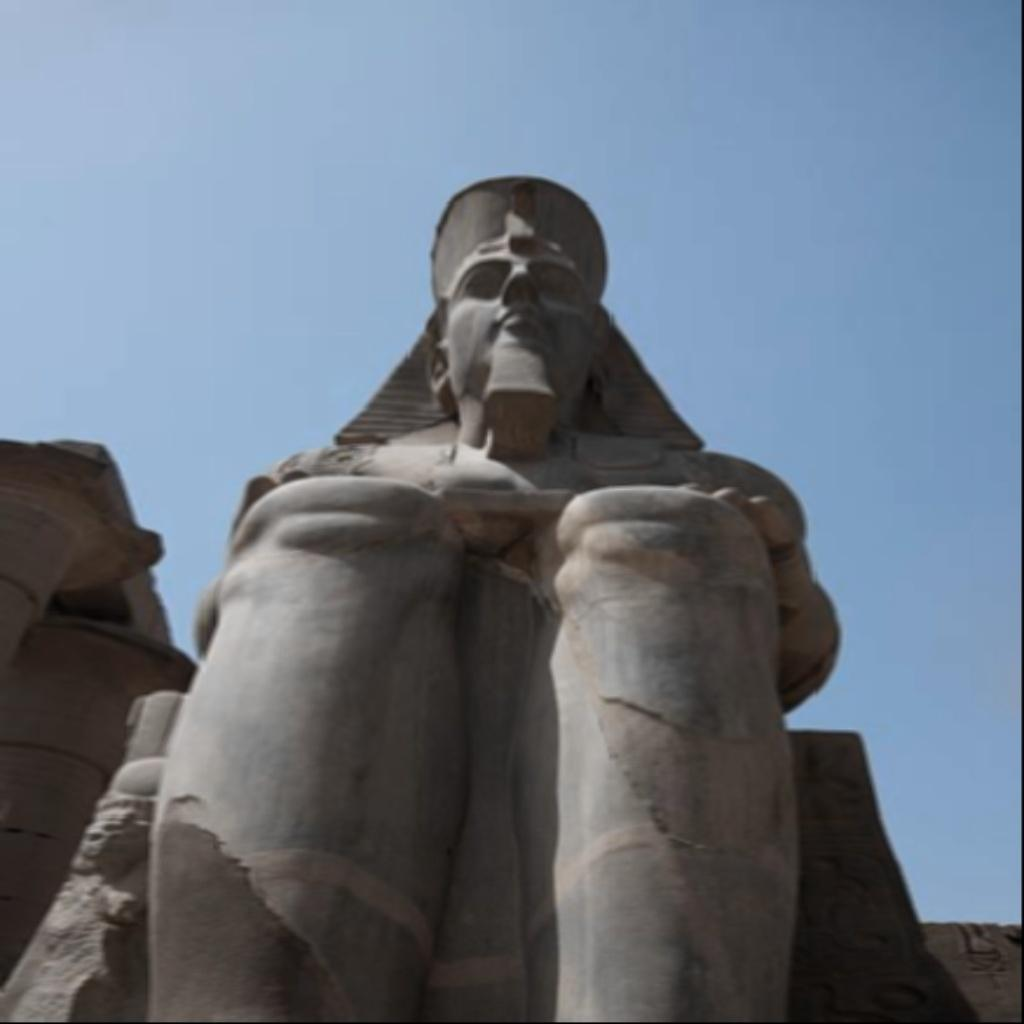Statue of King Ramses II Luxor Temple: (138, 174, 844, 1021)
